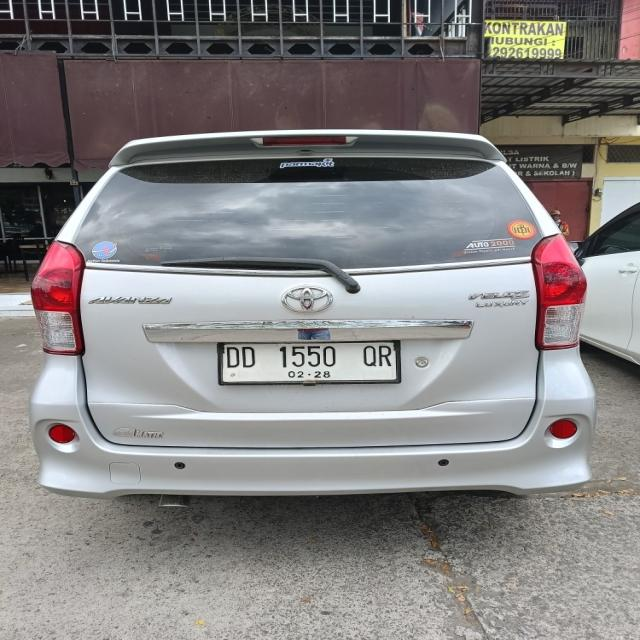plates: (220, 340, 401, 386)
